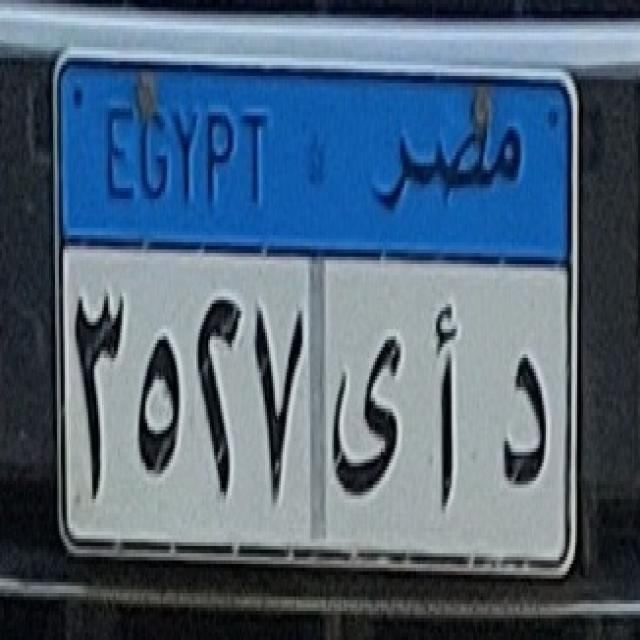2: (186, 284, 248, 511)
3: (60, 281, 129, 526)
5: (130, 319, 189, 489)
7: (243, 298, 309, 516)
Yeeh: (327, 318, 407, 510)
alef: (426, 287, 474, 534)
daal: (494, 343, 558, 505)
